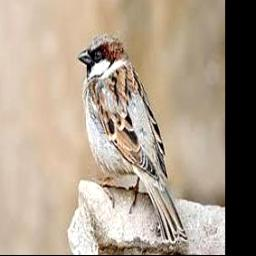Sparrow: (77, 32, 187, 243)
